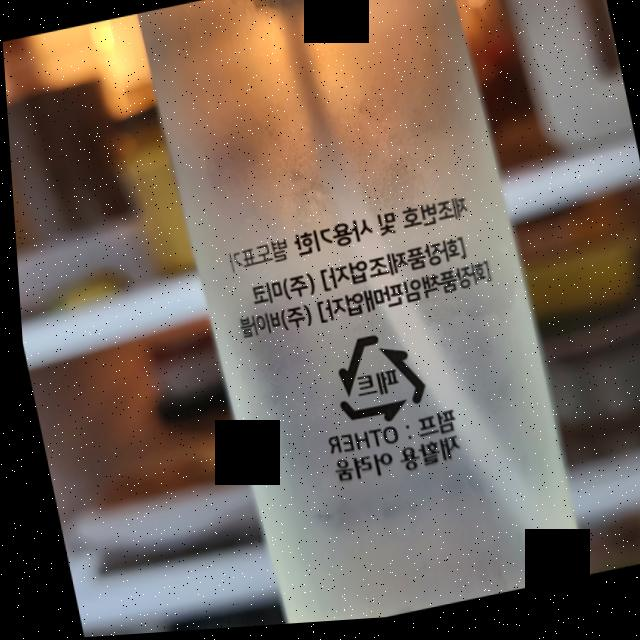PET: (315, 325, 430, 442)
